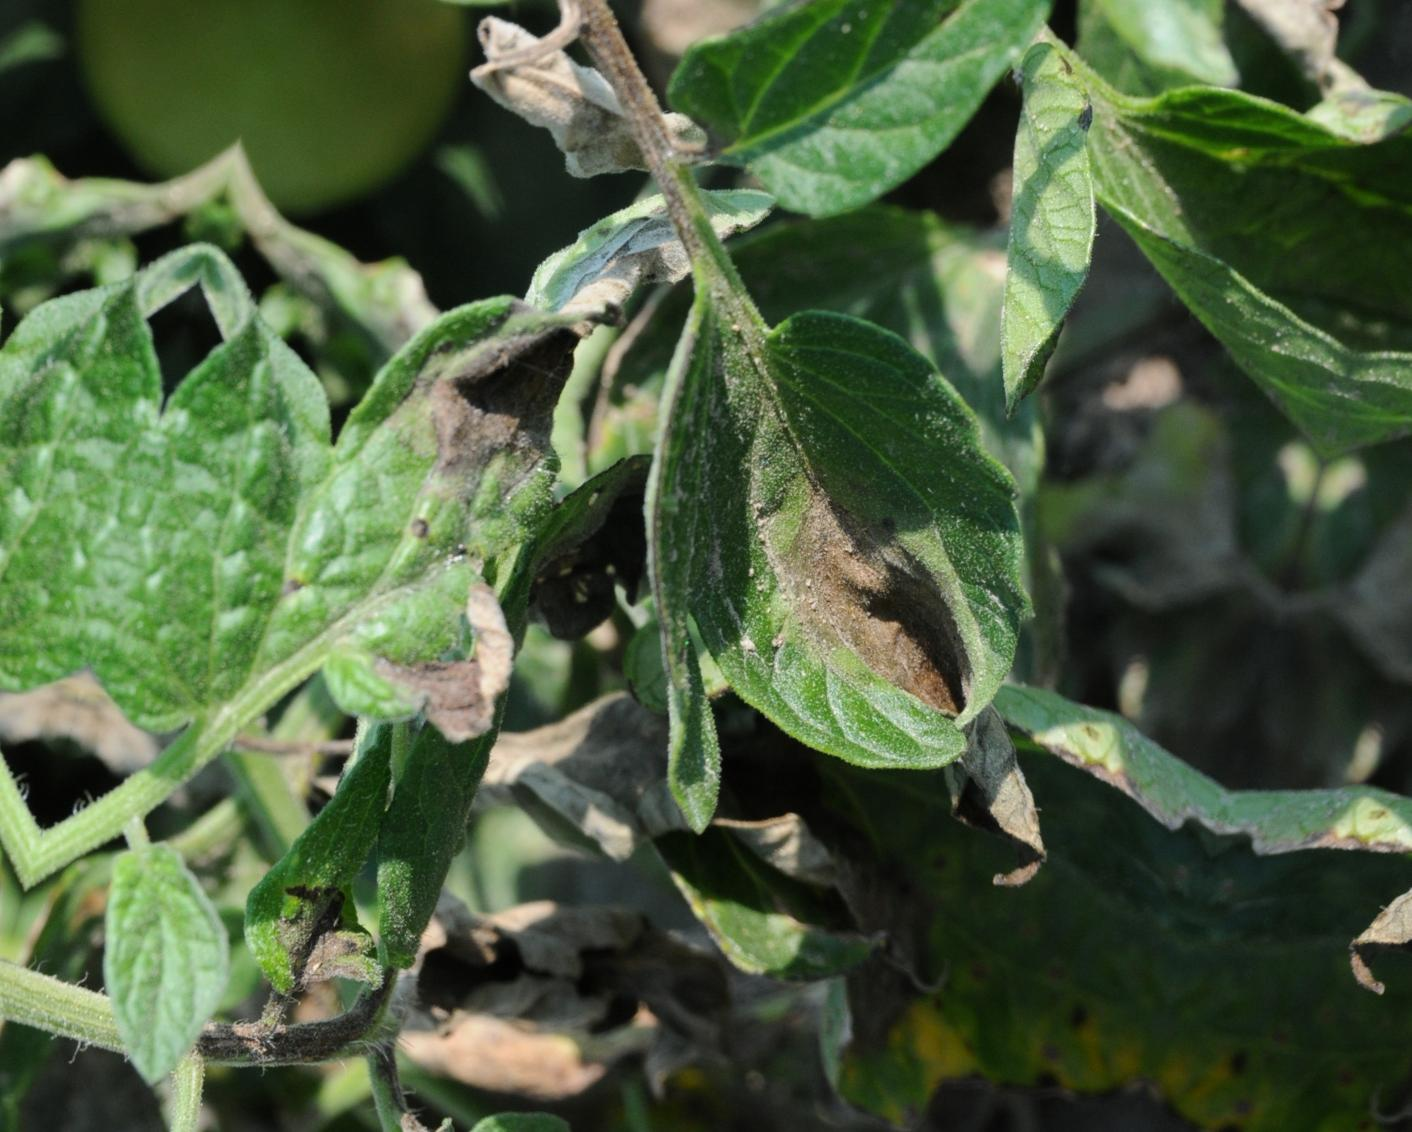Tomato leaf late blight: (563, 262, 1149, 849), (165, 250, 641, 826)
